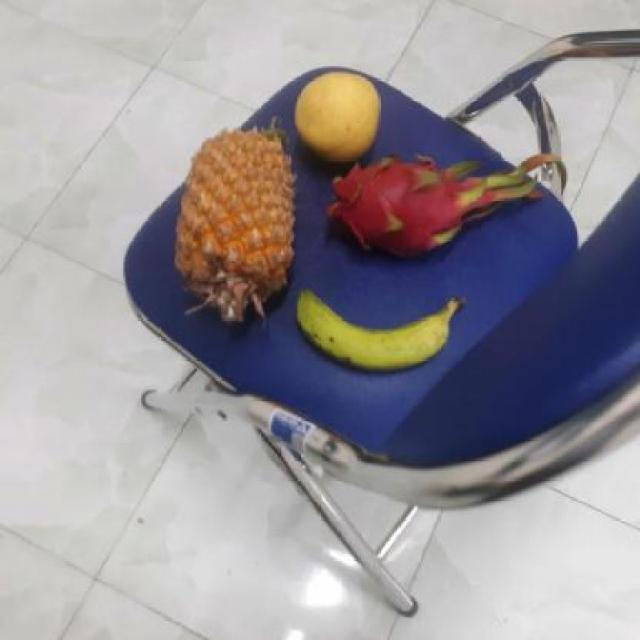banana: (301, 279, 461, 370)
dragon fruit: (333, 154, 496, 258)
pear: (292, 72, 385, 162)
sugar apple: (178, 126, 299, 323)
